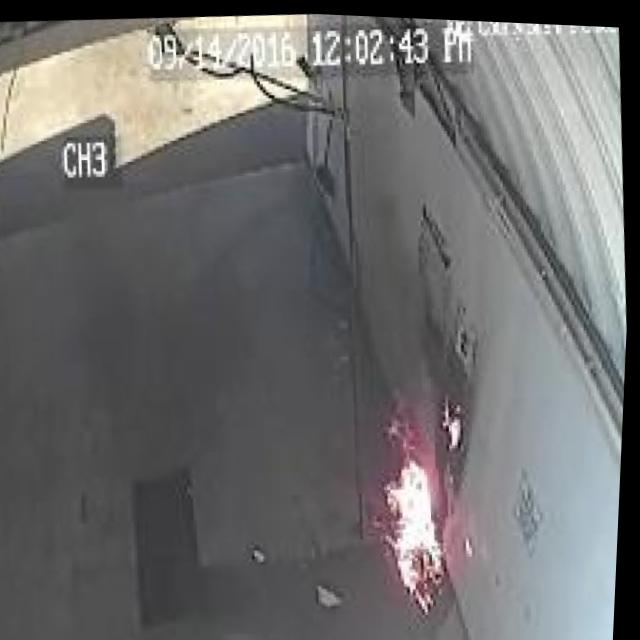fire: (353, 399, 484, 616)
